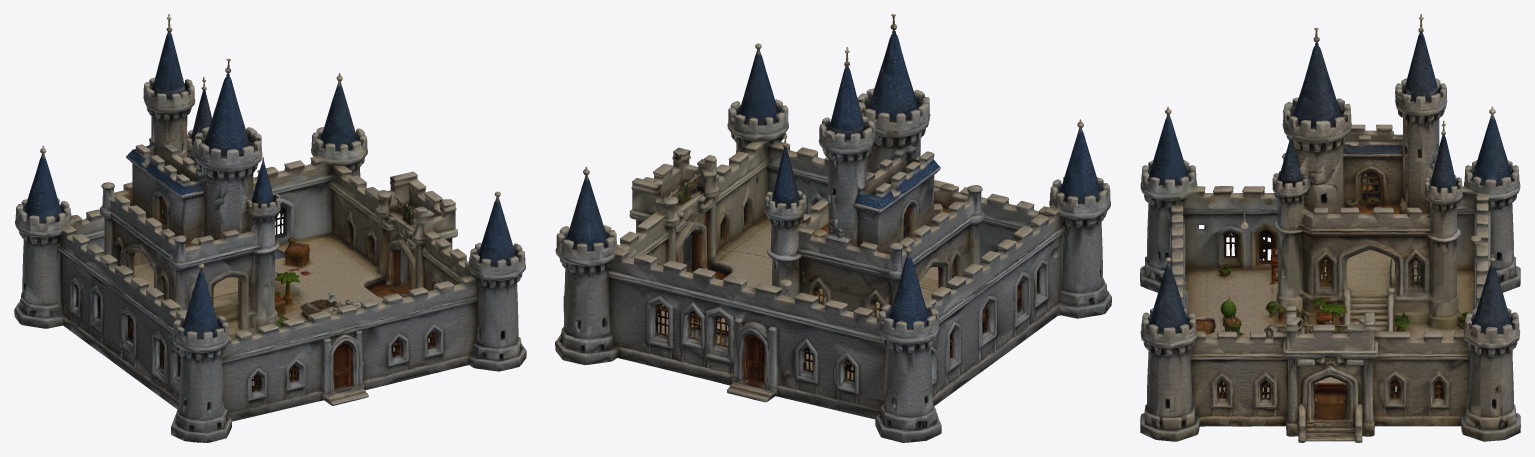
Rendered from castle-4k.glb.
3 views of the same model, side by side, from view 1: azimuth 30°, elevation 25°; view 2: azimuth 150°, elevation 25°; view 3: azimuth 270°, elevation 25° (orthographic). The views are drawn at different scales.
Visible parts, largest first — view 1: tripo_node_3343a7df-4cc0-4b80-b2cd-56cd5c2f174f; view 2: tripo_node_3343a7df-4cc0-4b80-b2cd-56cd5c2f174f; view 3: tripo_node_3343a7df-4cc0-4b80-b2cd-56cd5c2f174f.
Part boxes in pixels (x1,y1,x2,y2): tripo_node_3343a7df-4cc0-4b80-b2cd-56cd5c2f174f: (14, 14, 526, 442); tripo_node_3343a7df-4cc0-4b80-b2cd-56cd5c2f174f: (555, 14, 1111, 442); tripo_node_3343a7df-4cc0-4b80-b2cd-56cd5c2f174f: (1140, 14, 1520, 442).
Bounding box in the file's own units: 0.98 × 0.8115 × 0.8973.
1 material, 1 textured.
